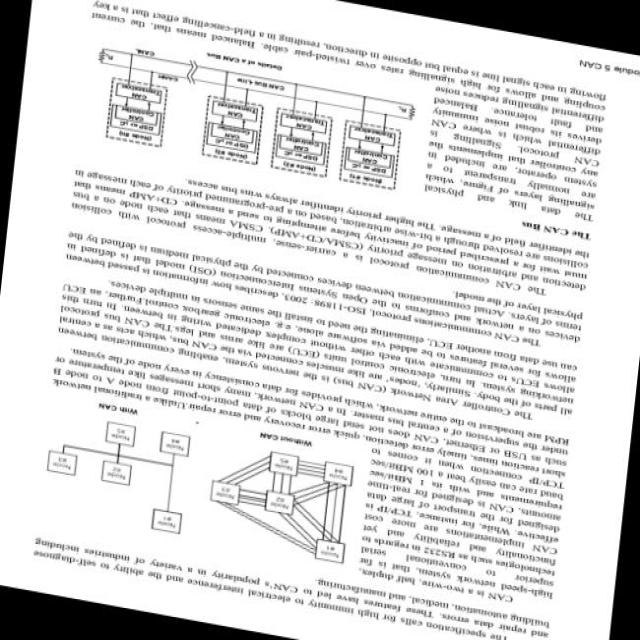Figure Detection - v3 Dataset Version2: (79, 39, 421, 208), (30, 401, 199, 545), (192, 432, 362, 574)
